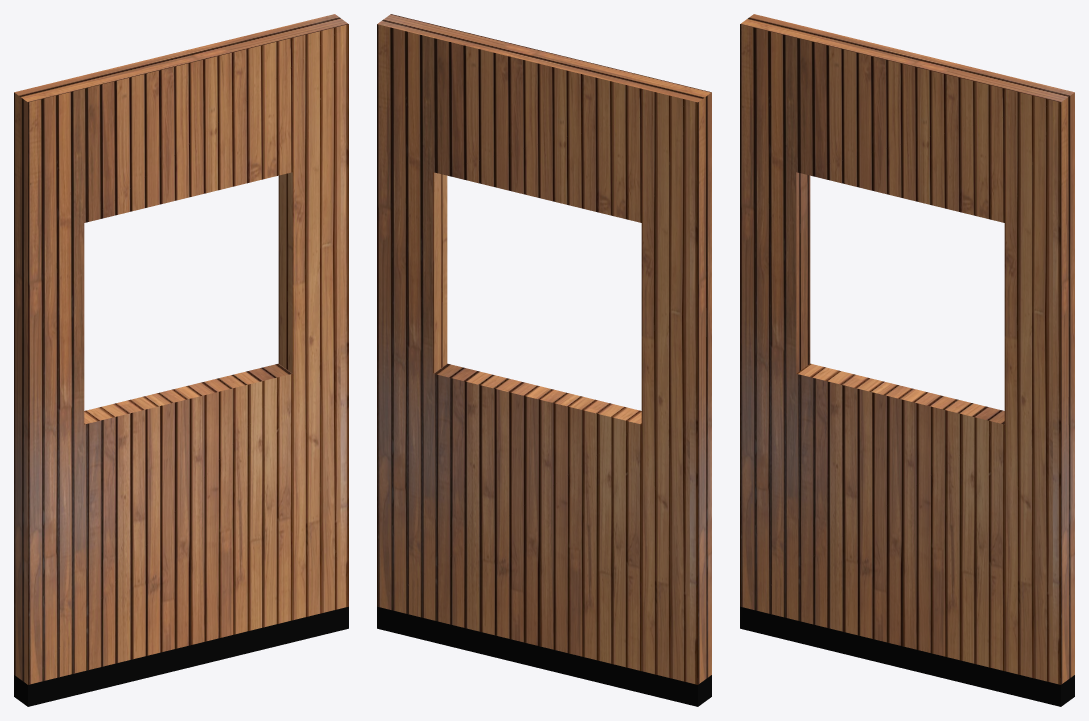
The model's file is ARC0210026.fbx.
The picture shows the model from 3 angles, left to right: view 1: azimuth 30°, elevation 25°; view 2: azimuth 150°, elevation 25°; view 3: azimuth 330°, elevation 25°; orthographic projection.
Parts seen in each view (by area): view 1: smARC0210026; view 2: smARC0210026; view 3: smARC0210026.
Part boxes in pixels (<box>): smARC0210026: <box>14,14,348,706</box>; smARC0210026: <box>377,14,711,706</box>; smARC0210026: <box>740,14,1074,706</box>.
Bounding box in the file's own units: 182 × 328 × 13.67.
Materials: 1 (1 with a texture image).
